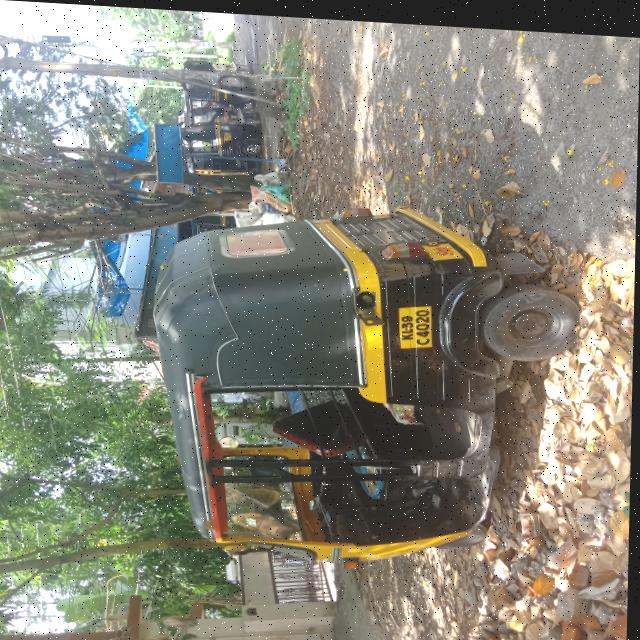plate: (400, 298, 435, 345)
